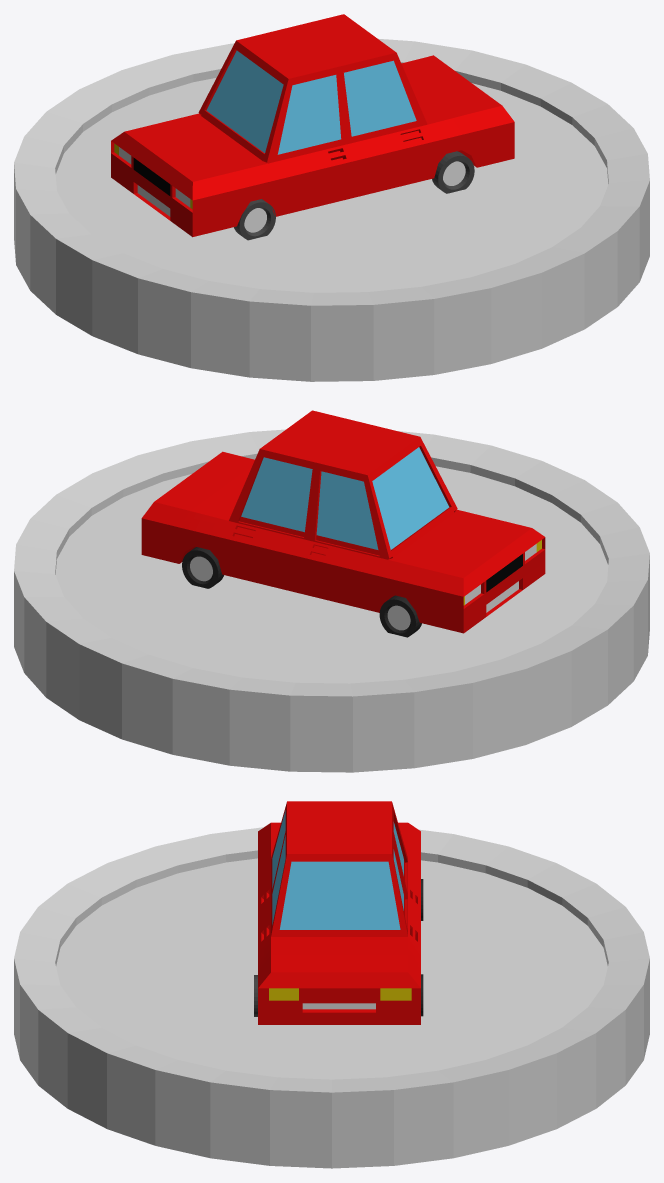
The model's file is car_1.fbx.
3 renders of one model, top to bottom at view 1: azimuth 30°, elevation 25°; view 2: azimuth 150°, elevation 25°; view 3: azimuth 270°, elevation 25°, orthographic.
Parts seen in each view (by area): view 1: Cylinder, Cube, Cylinder.002, Cylinder.004; view 2: Cylinder, Cube, Cylinder.000, Cylinder.001; view 3: Cylinder, Cube.
Boxes of the visible parts, x1=… form: Cylinder: x1=14, y1=38, x2=649, y2=381; Cube: x1=111, y1=14, x2=514, y2=237; Cylinder.002: x1=432, y1=151, x2=474, y2=193; Cylinder.004: x1=234, y1=199, x2=275, y2=240; Cylinder: x1=14, y1=429, x2=649, y2=772; Cube: x1=141, y1=410, x2=545, y2=633; Cylinder.000: x1=182, y1=547, x2=223, y2=588; Cylinder.001: x1=379, y1=595, x2=421, y2=637; Cylinder: x1=14, y1=827, x2=649, y2=1168; Cube: x1=258, y1=801, x2=420, y2=1024.
Size of the model in its own units: 781 by 272 by 781.
